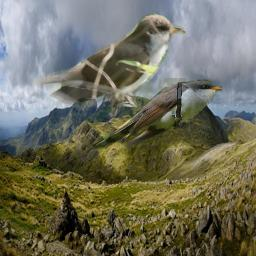Cuckoo: (32, 13, 186, 107), (86, 78, 222, 149)
